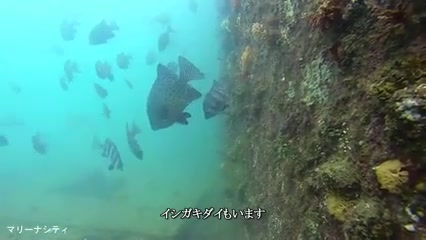smallfish: (145, 60, 204, 128), (201, 80, 231, 123), (89, 136, 122, 170), (88, 17, 117, 50), (113, 47, 137, 73)
